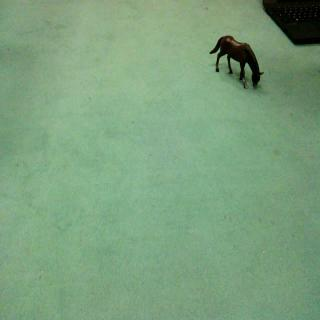horse: (208, 28, 266, 100)
